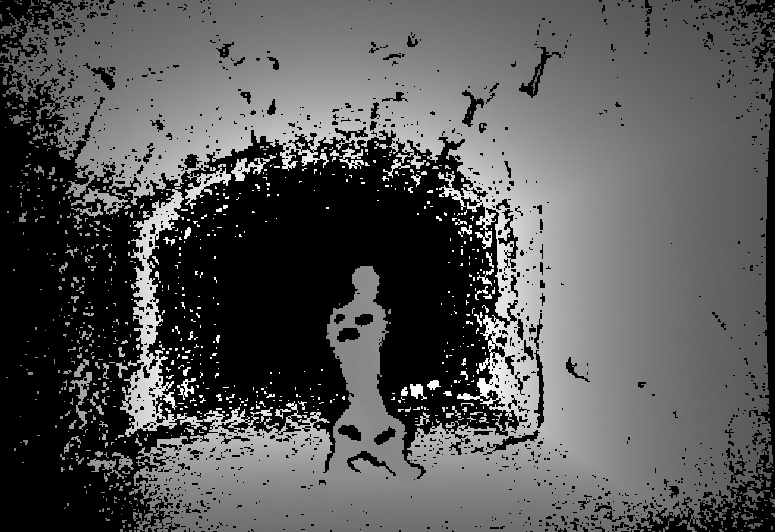person: (326, 264, 423, 482)
